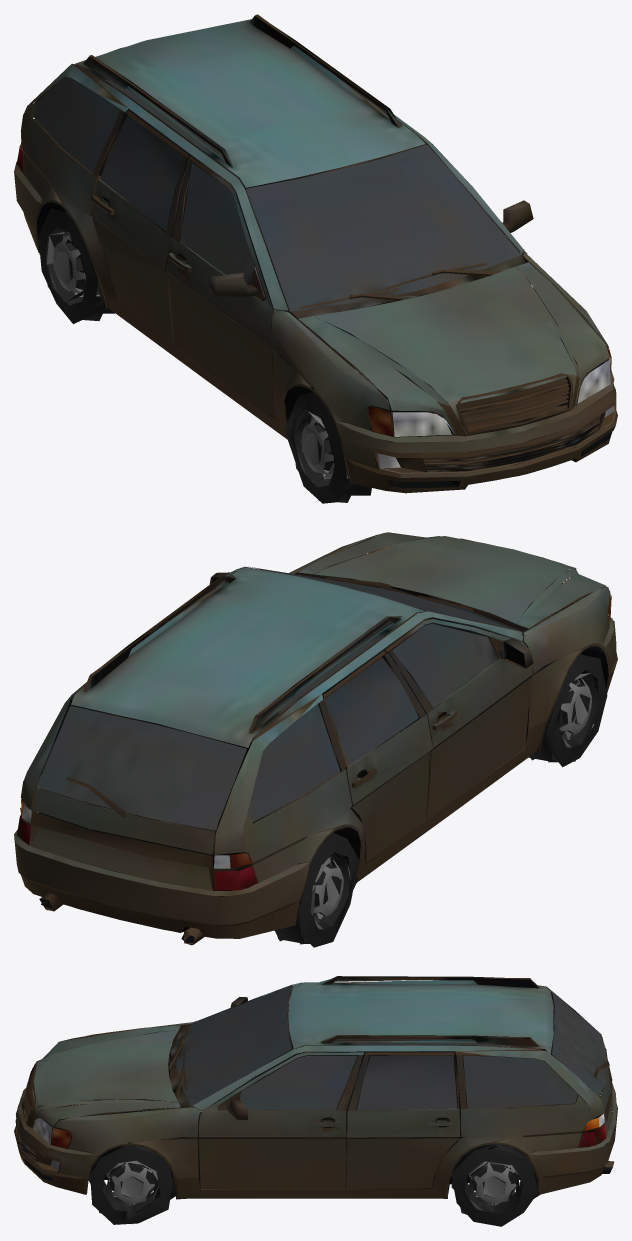
Rendered from pack-wagon-L3.glb.
3 views of the same model, one above another, from view 1: azimuth 30°, elevation 25°; view 2: azimuth 150°, elevation 25°; view 3: azimuth 270°, elevation 25° (orthographic). The views are drawn at different scales.
Visible parts, largest first — view 1: body, wheel-front-left, wheel-back-left, wheel-back-left.1, wheel-front-left.1; view 2: body, wheel-back-left, wheel-front-left, wheel-back-left.1, wheel-front-left.1; view 3: body, wheel-back-right, wheel-front-right, wheel-front-right.1, wheel-back-right.1.
Boxes of the visible parts, x1,y1,x2,y2 form: body: (14,14,617,493); wheel-front-left: (284,392,371,503); wheel-back-left: (38,208,114,323); wheel-back-left.1: (46,232,99,296); wheel-front-left.1: (297,411,348,479); body: (14,532,617,945); wheel-back-left: (274,833,358,947); wheel-front-left: (529,654,607,767); wheel-back-left.1: (310,857,350,929); wheel-front-left.1: (559,673,591,747); body: (14,976,617,1199); wheel-back-right: (451,1144,540,1226); wheel-front-right: (88,1145,177,1224); wheel-front-right.1: (106,1160,158,1205); wheel-back-right.1: (467,1148,519,1210).
Size of the model in its own units: 1.95 by 1.44 by 4.39.
Materials: 3 (1 with a texture image).
